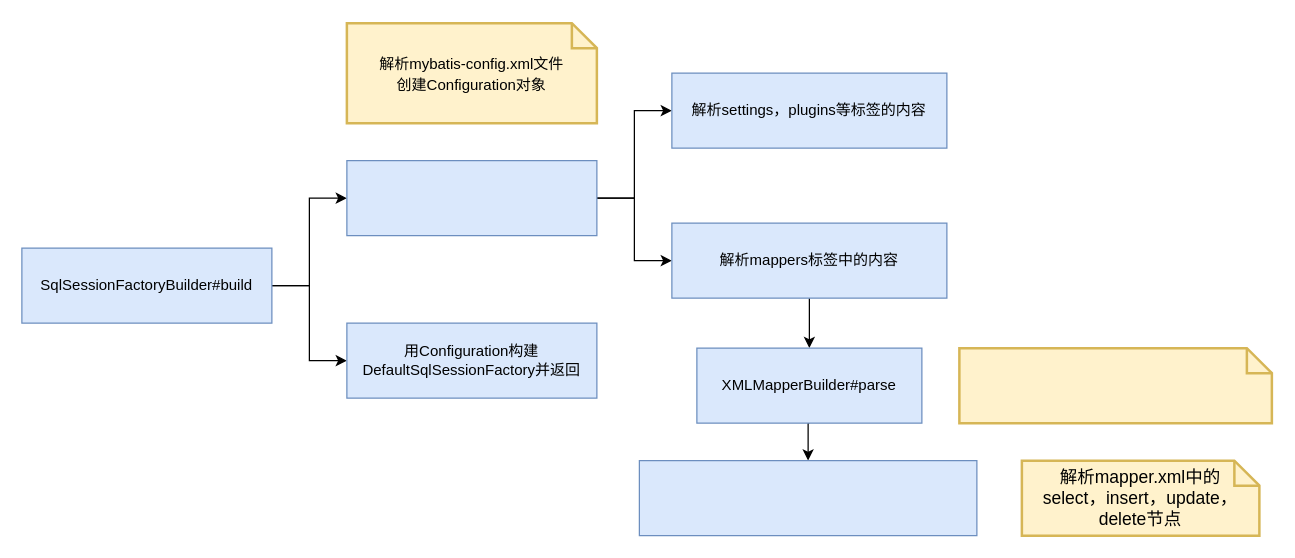
The diagram is 1295 pixels wide and 558 high, and some of its shapes have lost their labels. Each missing label, with the box of its shape:
XMLConfigBuilder#parse: (346, 159, 597, 236)
XMLStatementBuilder#parseStatementNode: (638, 459, 977, 536)
解析mapper.xml中的 cache-ref，cache，parameterMap，resultMap，sql节点: (958, 346, 1272, 424)
